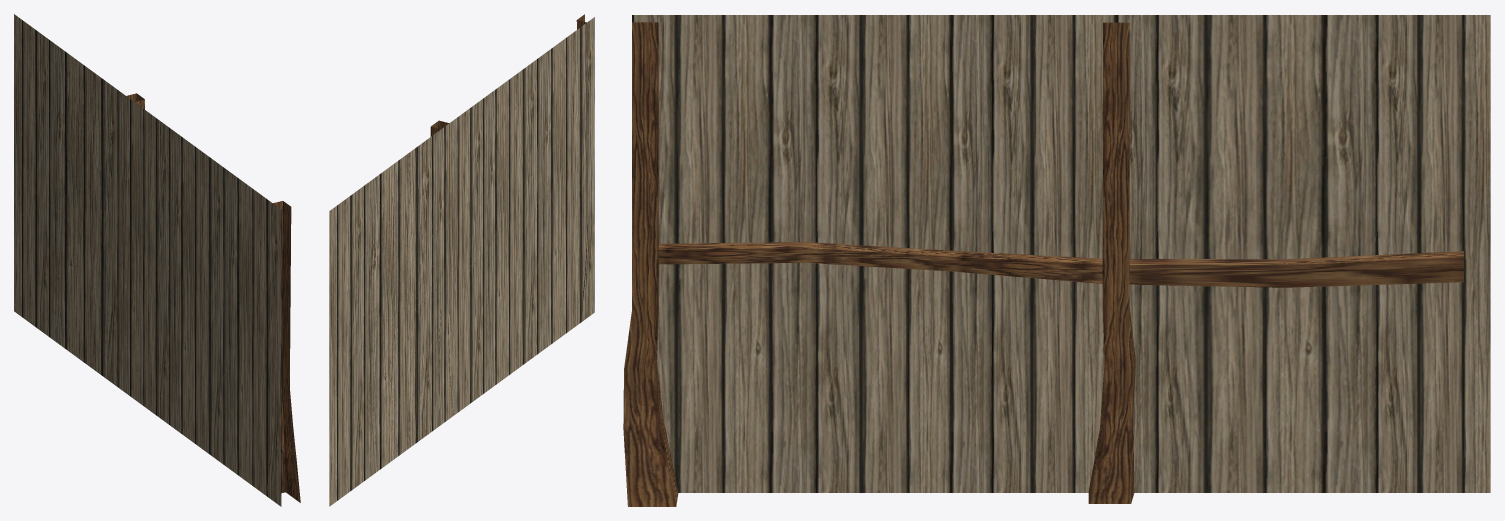
Rendered from LAKETOWN_PUB_PS_PUB_SIDEWALL938__GX.obj.
3 renders of one model, left to right at view 1: azimuth 30°, elevation 25°; view 2: azimuth 150°, elevation 25°; view 3: azimuth 270°, elevation 25°, orthographic. The views are drawn at different scales.
Visible parts, largest first — view 1: SideWall938__GX; view 2: SideWall938__GX; view 3: SideWall938__GX.
Boxes of the visible parts, x1=… form: SideWall938__GX: x1=14, y1=14, x2=300, y2=506; SideWall938__GX: x1=329, y1=14, x2=594, y2=506; SideWall938__GX: x1=623, y1=15, x2=1490, y2=506.
Size of the model in its own units: 34.87 by 528 by 867.
